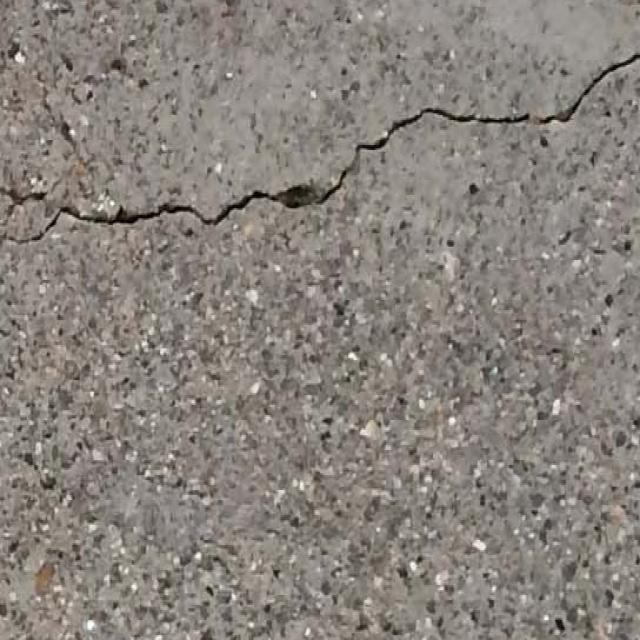crack: (0, 50, 639, 251)
